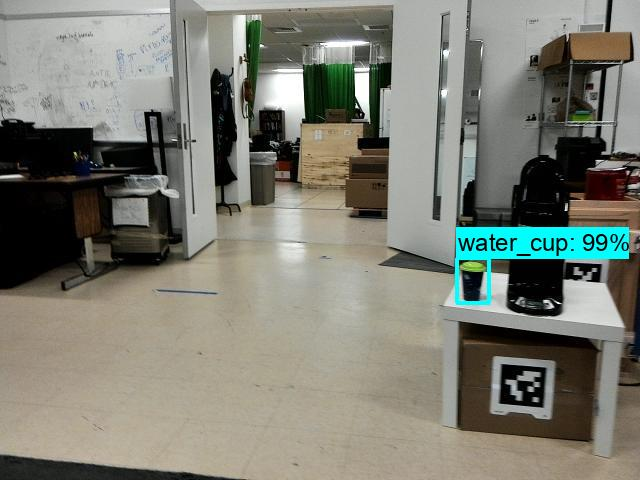water_cup: (460, 258, 486, 305)
